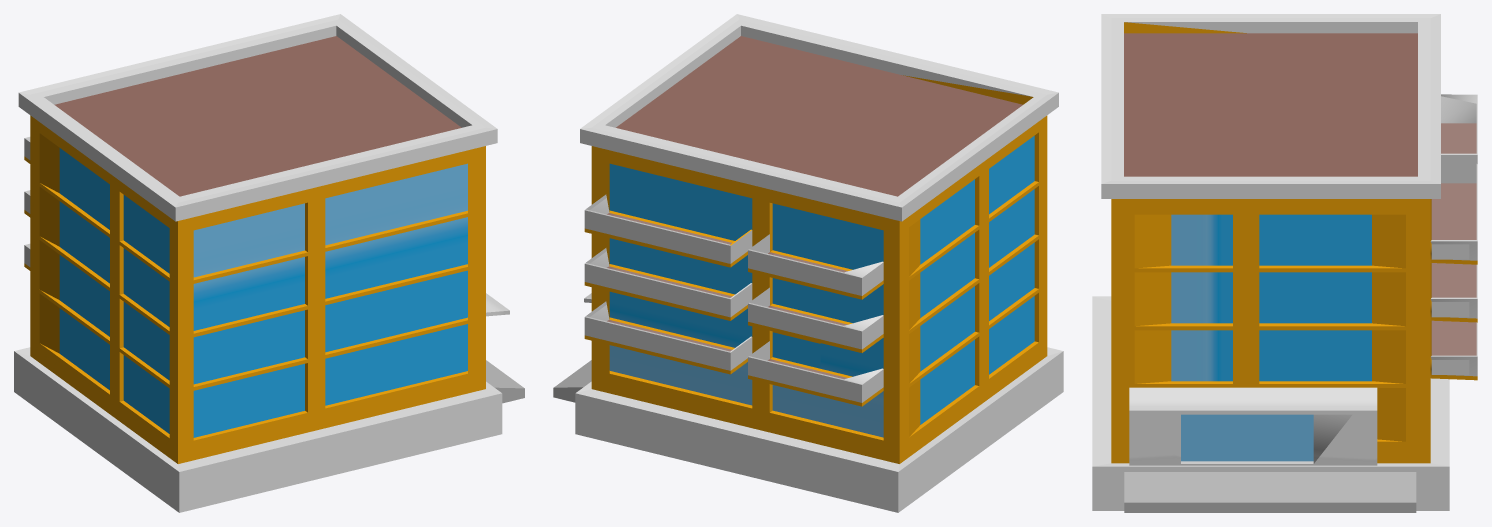
File: OrangeBuilding4x5x5.fbx
3 views of the same model, side by side, from view 1: azimuth 30°, elevation 25°; view 2: azimuth 150°, elevation 25°; view 3: azimuth 270°, elevation 25° (orthographic). The views are drawn at different scales.
Parts seen in each view (by area): view 1: House; view 2: House; view 3: House.
Part boxes in pixels (box(x1,y1,x2,y2)): House: box(14, 14, 524, 512); House: box(553, 14, 1063, 512); House: box(1092, 14, 1477, 512).
Size of the model in its own units: 6.24 by 5 by 5.34.
1 material, 1 textured.
